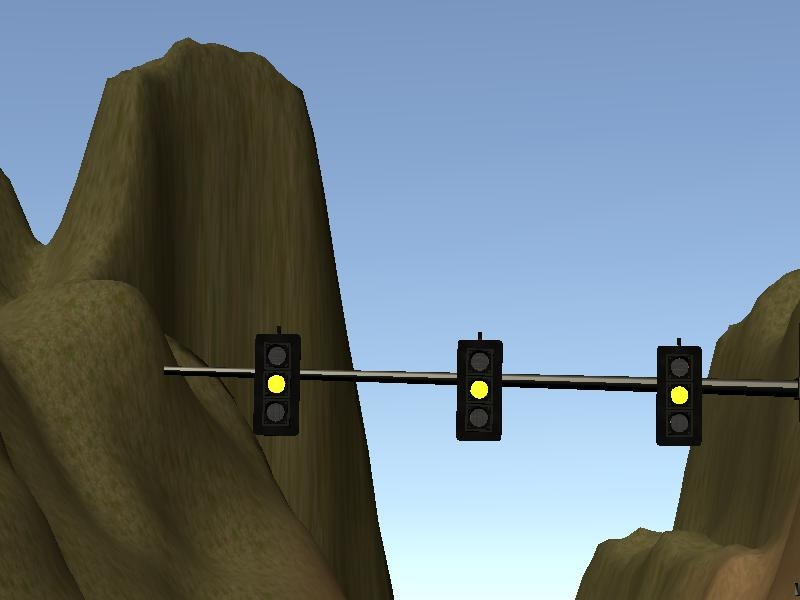YELLOW: (654, 342, 705, 449), (454, 333, 505, 440), (248, 328, 299, 435)
